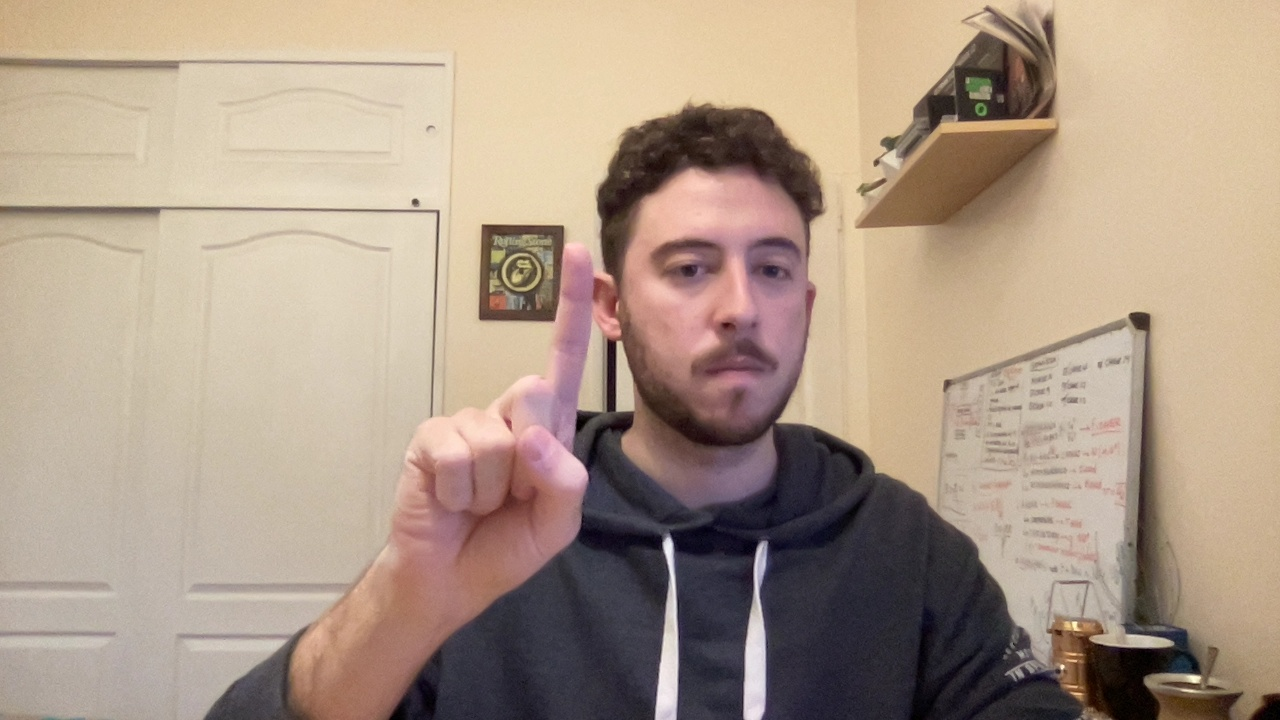indice: (360, 221, 612, 606)
